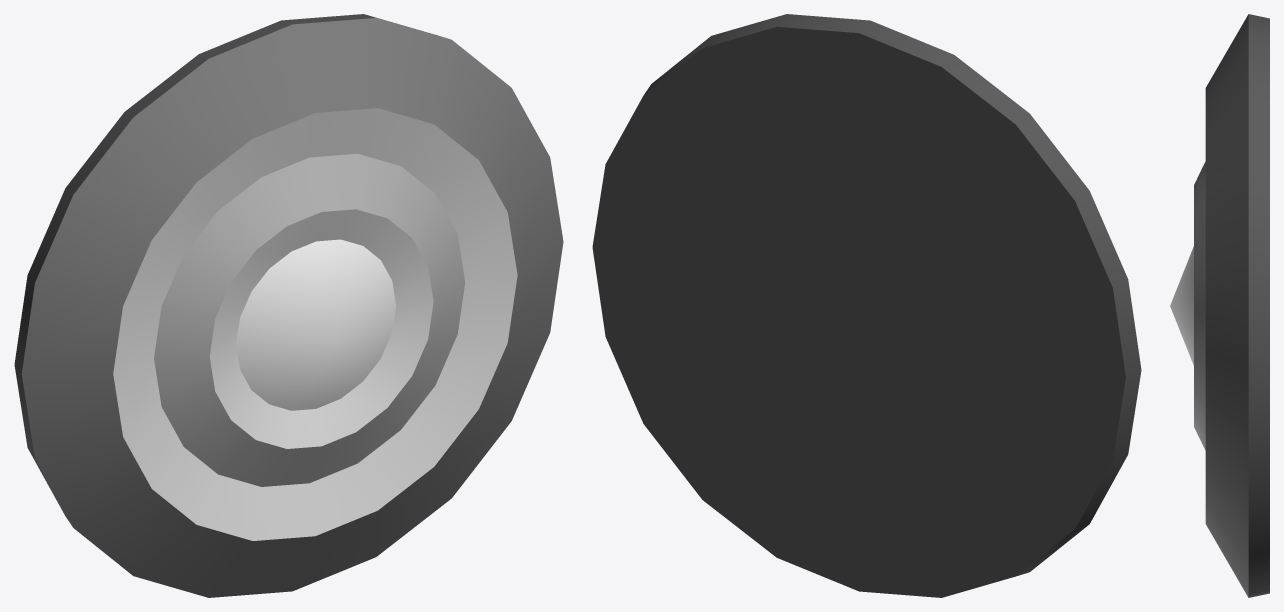
The model's file is SM_MotionSensor_01.obj.
The picture shows the model from 3 angles, left to right: view 1: azimuth 30°, elevation 25°; view 2: azimuth 150°, elevation 25°; view 3: azimuth 270°, elevation 25°; orthographic projection. The views are drawn at different scales.
Parts seen in each view (by area): view 1: SM_MotionSensor_01_Mat_SwatchOverlay_PolygonOffice_01_Metal_Inst, SM_MotionSensor_01_mi_Railing; view 2: SM_MotionSensor_01_Mat_SwatchOverlay_PolygonOffice_01_Metal_Inst; view 3: SM_MotionSensor_01_Mat_SwatchOverlay_PolygonOffice_01_Metal_Inst, SM_MotionSensor_01_mi_Railing.
Boxes of the visible parts, left/top/right/bottom form: SM_MotionSensor_01_Mat_SwatchOverlay_PolygonOffice_01_Metal_Inst: left=14, top=14, right=563, bottom=597; SM_MotionSensor_01_mi_Railing: left=236, top=239, right=395, bottom=410; SM_MotionSensor_01_Mat_SwatchOverlay_PolygonOffice_01_Metal_Inst: left=592, top=14, right=1141, bottom=597; SM_MotionSensor_01_Mat_SwatchOverlay_PolygonOffice_01_Metal_Inst: left=1194, top=14, right=1269, bottom=597; SM_MotionSensor_01_mi_Railing: left=1170, top=246, right=1193, bottom=365.
Size of the model in its own units: 1.1 by 1.1 by 0.1868.
2 materials, 1 textured.
